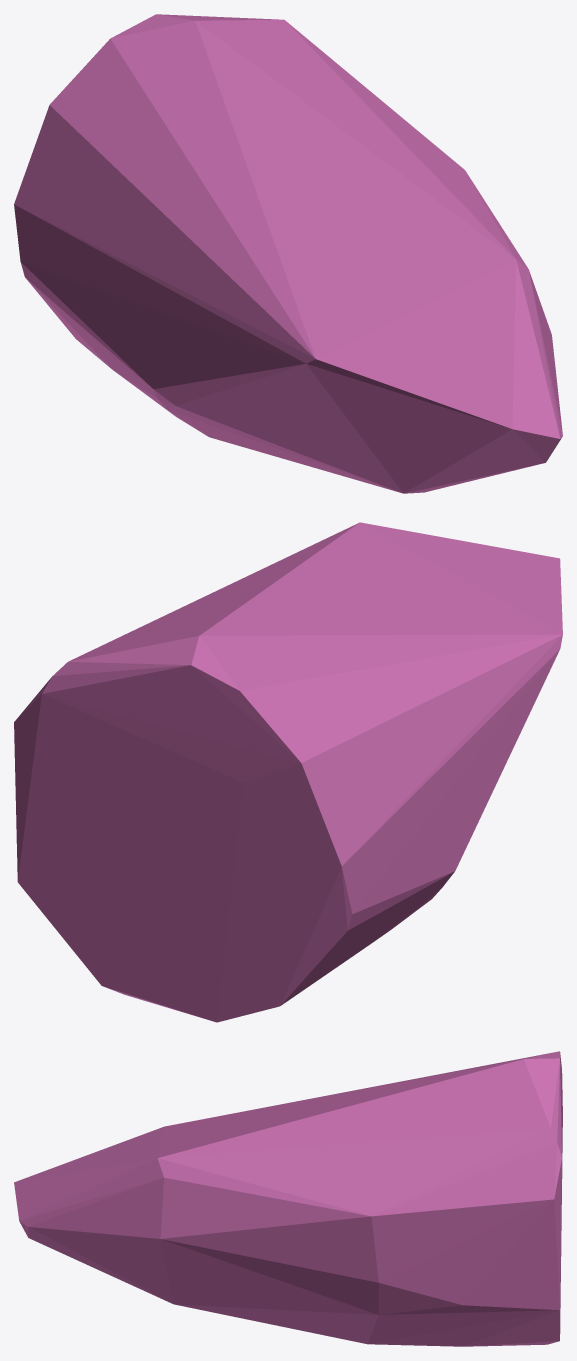
File: paint_container_bottle_blue_a03.glb
3 renders of one model, top to bottom at view 1: azimuth 30°, elevation 25°; view 2: azimuth 150°, elevation 25°; view 3: azimuth 270°, elevation 25°, orthographic. The views are drawn at different scales.
Parts seen in each view (by area): view 1: geometry_0; view 2: geometry_0; view 3: geometry_0.
Part boxes in pixels (x1=…): geometry_0: x1=14, y1=14, x2=562, y2=493; geometry_0: x1=14, y1=522, x2=562, y2=1022; geometry_0: x1=14, y1=1051, x2=562, y2=1346.
Size of the model in its own units: 0.2586 by 0.2548 by 0.479.
